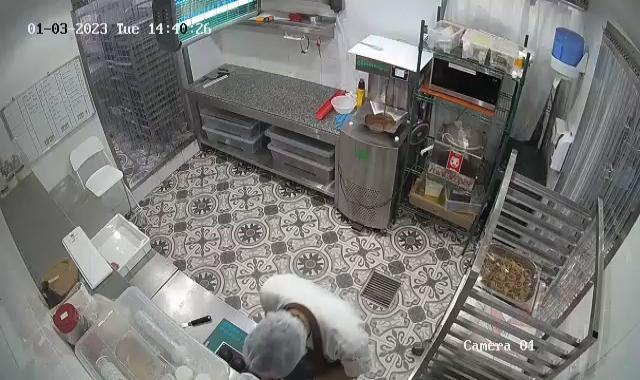hairnet: (243, 308, 309, 376)
